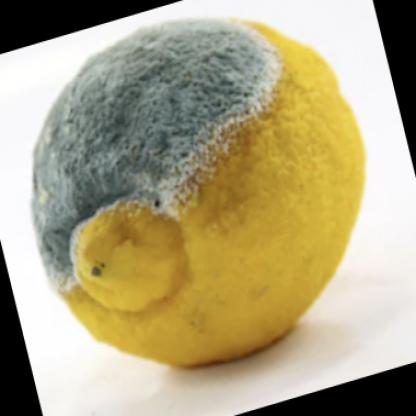rotten_orange: (12, 12, 371, 376)
